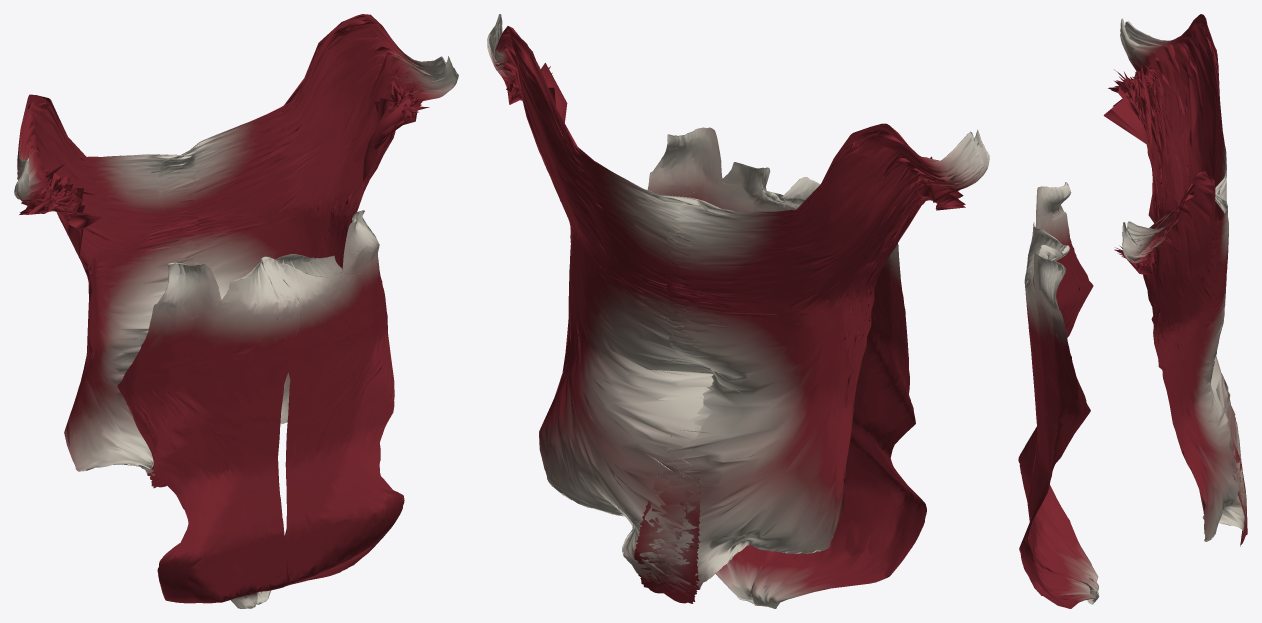
Rendered from axon-roma-high-sa.glb.
3 renders of one model, left to right at view 1: azimuth 30°, elevation 25°; view 2: azimuth 150°, elevation 25°; view 3: azimuth 270°, elevation 25°, orthographic. The views are drawn at different scales.
Visible parts, largest first — view 1: muscles / tissue; view 2: muscles / tissue; view 3: muscles / tissue.
Boxes of the visible parts, bbox=[...] form: muscles / tissue: bbox=[14, 14, 458, 608]; muscles / tissue: bbox=[487, 14, 989, 608]; muscles / tissue: bbox=[1018, 14, 1247, 608].
Size of the model in its own units: 0.407 by 0.4495 by 0.1841.
